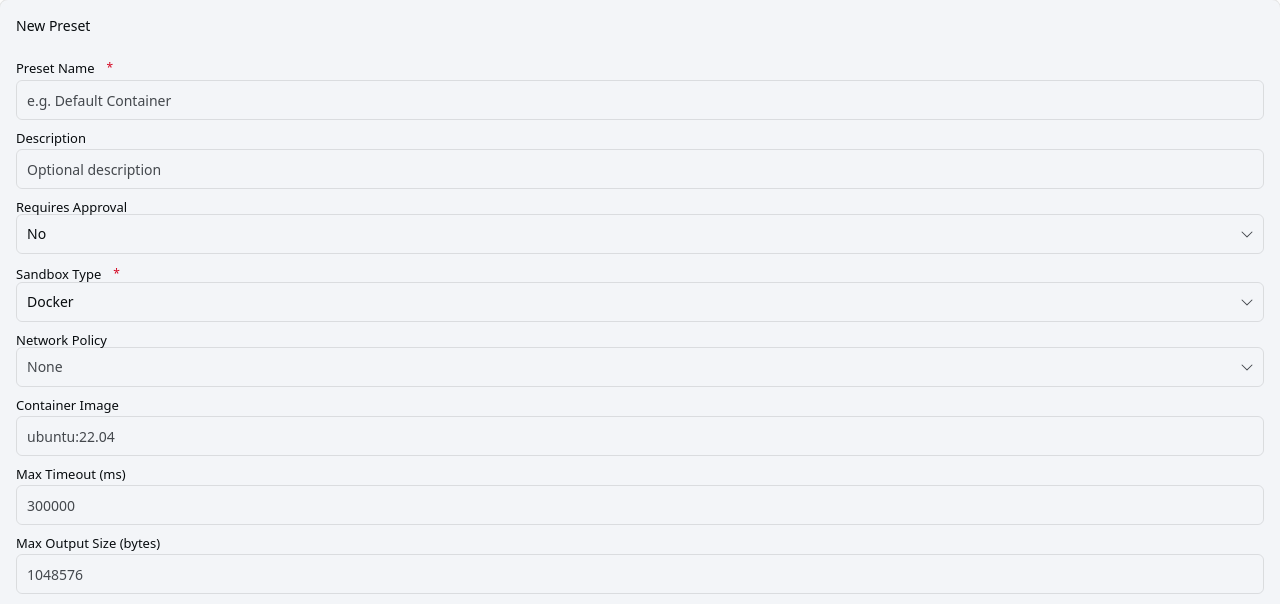
Test case: SandboxConfigForm › switching network mode dynamically › should reveal deny-list host entries when selecting Deny List
What coordinates should you click on to do the following:
click the dropdown named "Network Policy"
I would click on:
 (45, 366)
Its box is [16,347,1264,387].
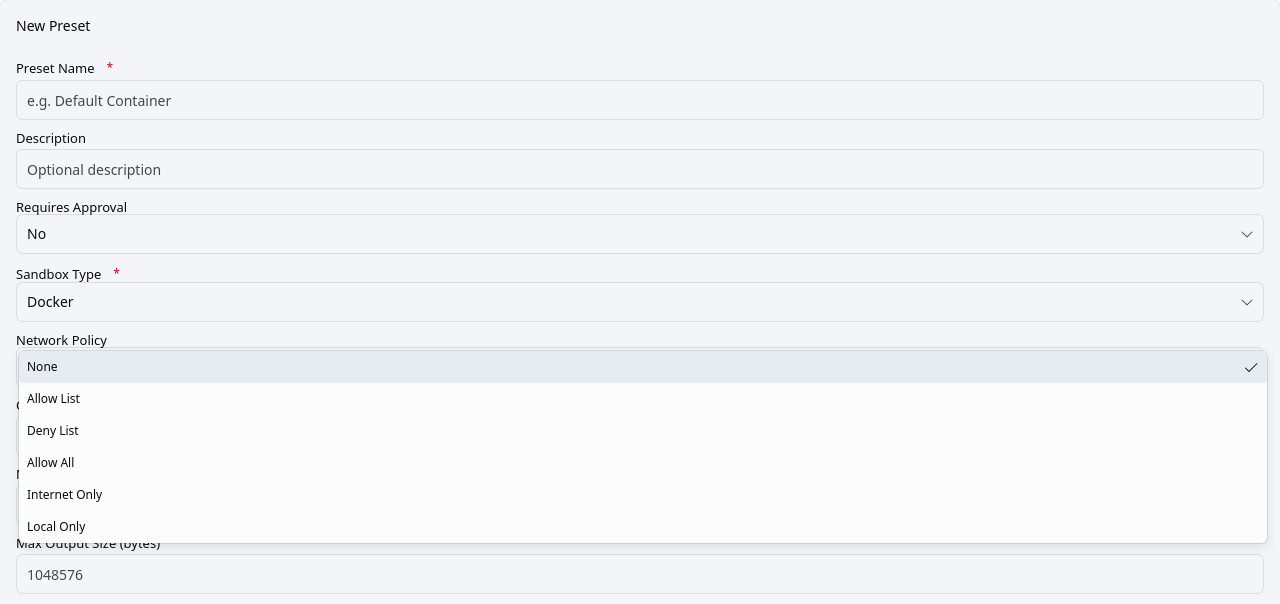
What coordinates should you click on to do the following:
click the option "Deny List"
I would click on:
 (53, 430)
Its box is [27,422,79,439].
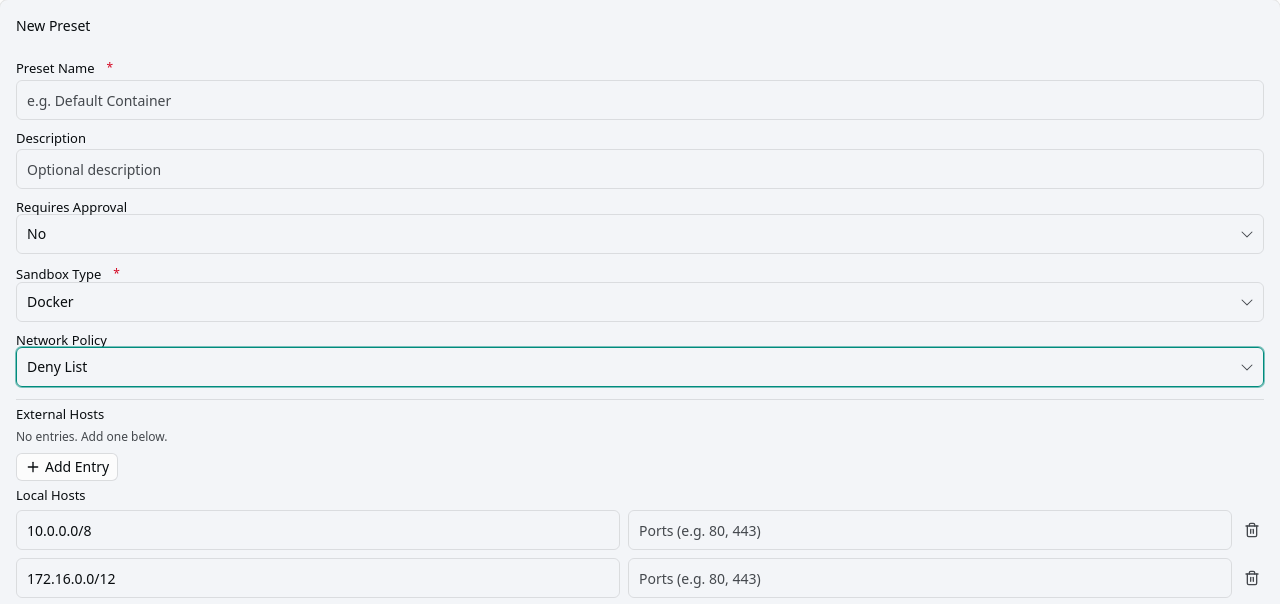
Check: the list is gone
Check: the text "External Hosts" is shown, box [16,405,104,423]
